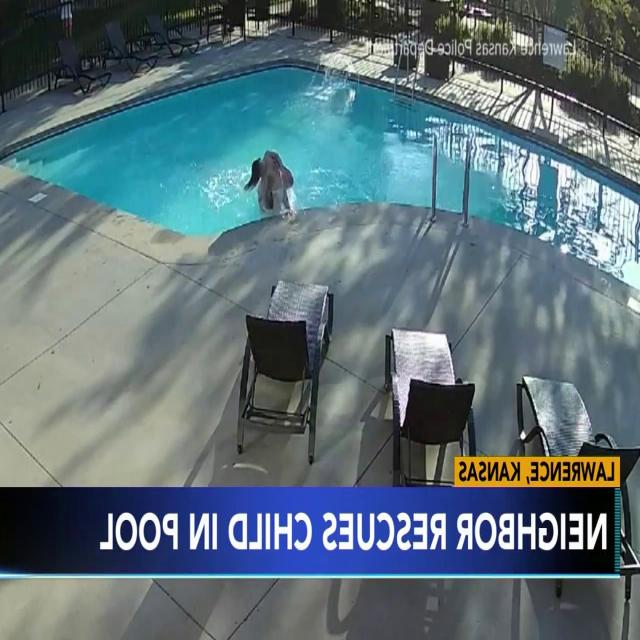adult: (247, 154, 267, 216)
child: (264, 140, 286, 215)
